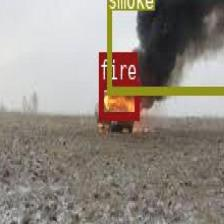fire: (98, 81, 138, 118)
smoke: (106, 0, 223, 92)
